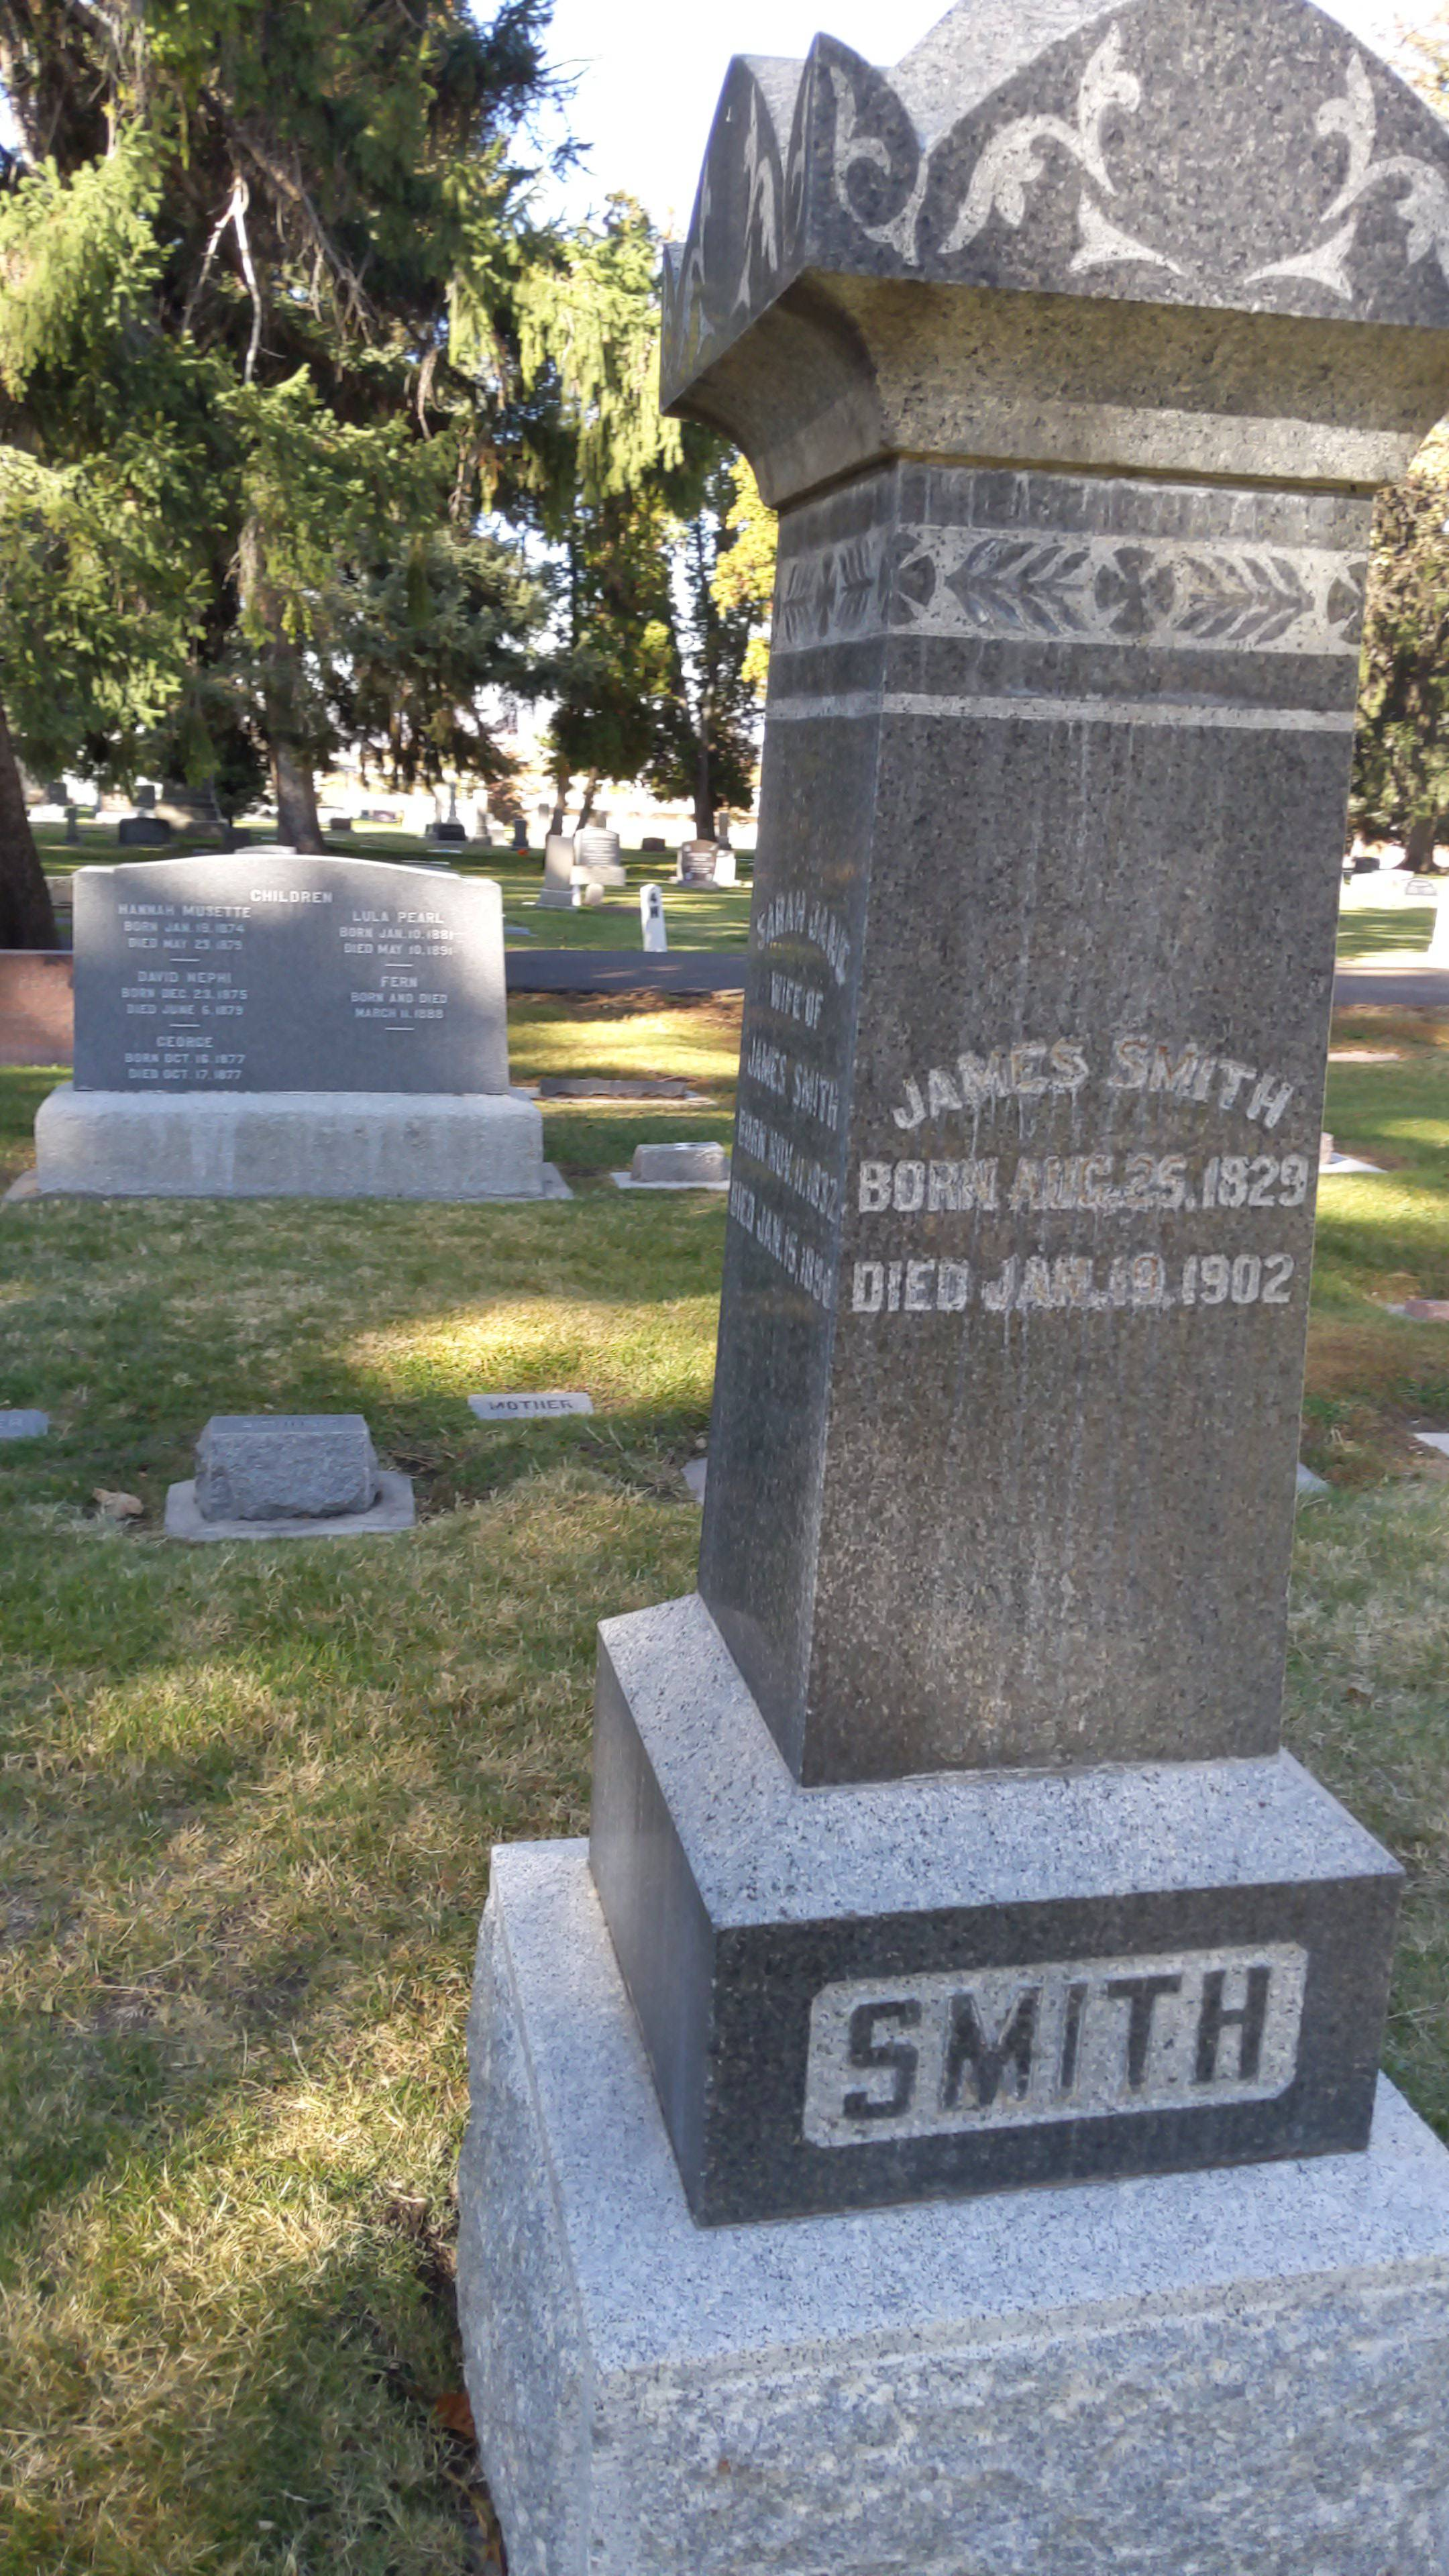obelisk: (587, 0, 1449, 2236)
